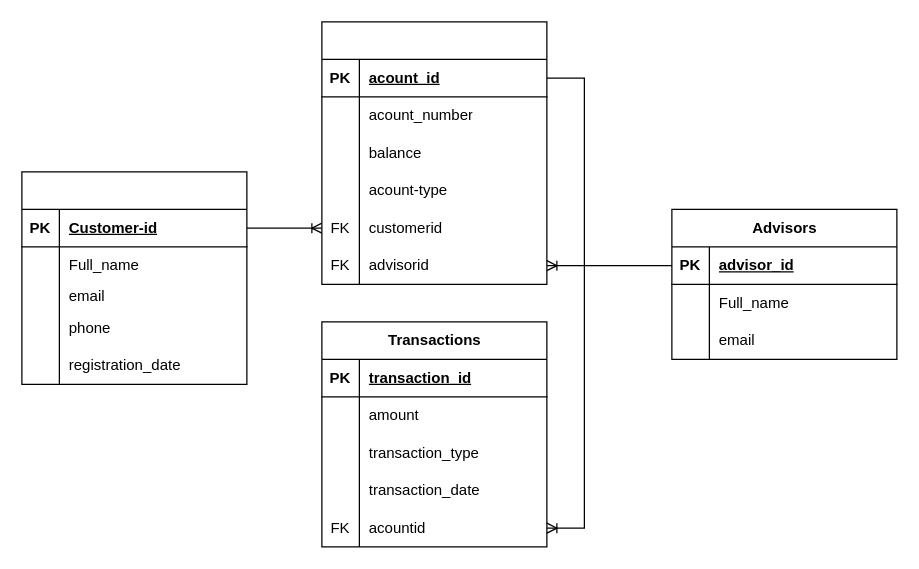
Some shapes in this 919 by 569 pixel diagram are drawn without their labels. Here are the shapes that lost their labels. From the top down, the box of each, then its label:
(321, 21, 547, 284): Acounts
(21, 171, 247, 384): Customers
